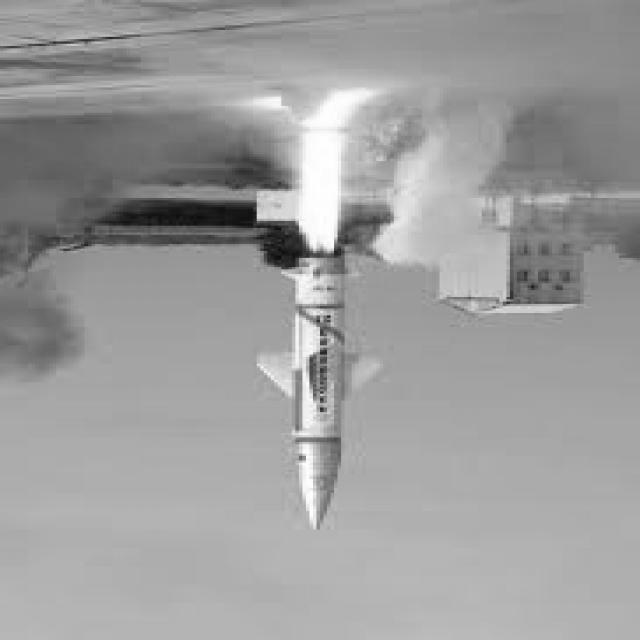Missile: (289, 236, 352, 546)
